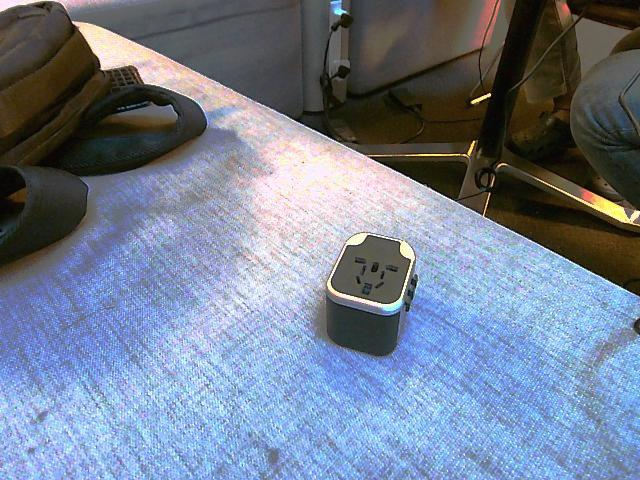adapter: (324, 232, 418, 357)
